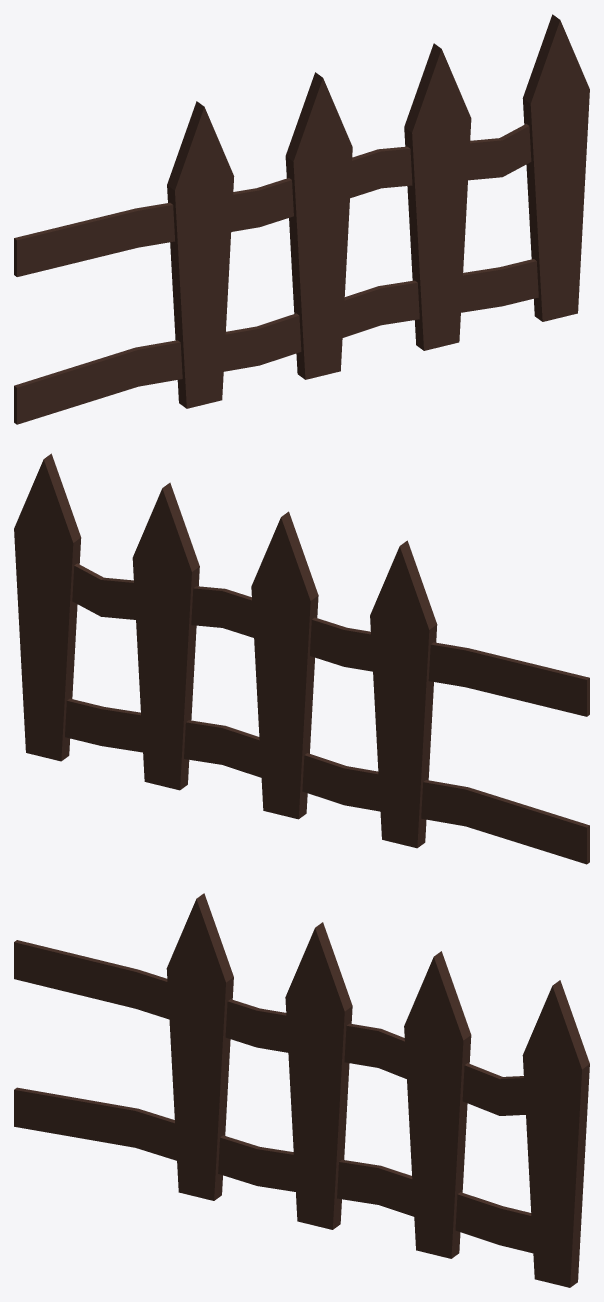
File: CercaMadeiraAbertaEsquerda.fbx
3 renders of one model, top to bottom at view 1: azimuth 30°, elevation 25°; view 2: azimuth 150°, elevation 25°; view 3: azimuth 330°, elevation 25°, orthographic.
Parts seen in each view (by area): view 1: CercaMadeira03; view 2: CercaMadeira03; view 3: CercaMadeira03.
Part boxes in pixels (<box>): CercaMadeira03: <box>14,14,589,424</box>; CercaMadeira03: <box>14,453,589,864</box>; CercaMadeira03: <box>14,893,589,1287</box>.
Bounding box in the file's own units: 734 × 366 × 17.59.
